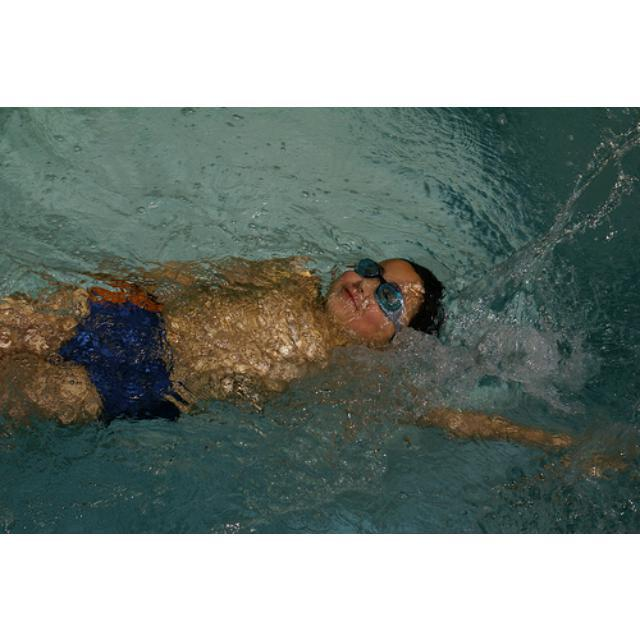human: (1, 243, 470, 460)
